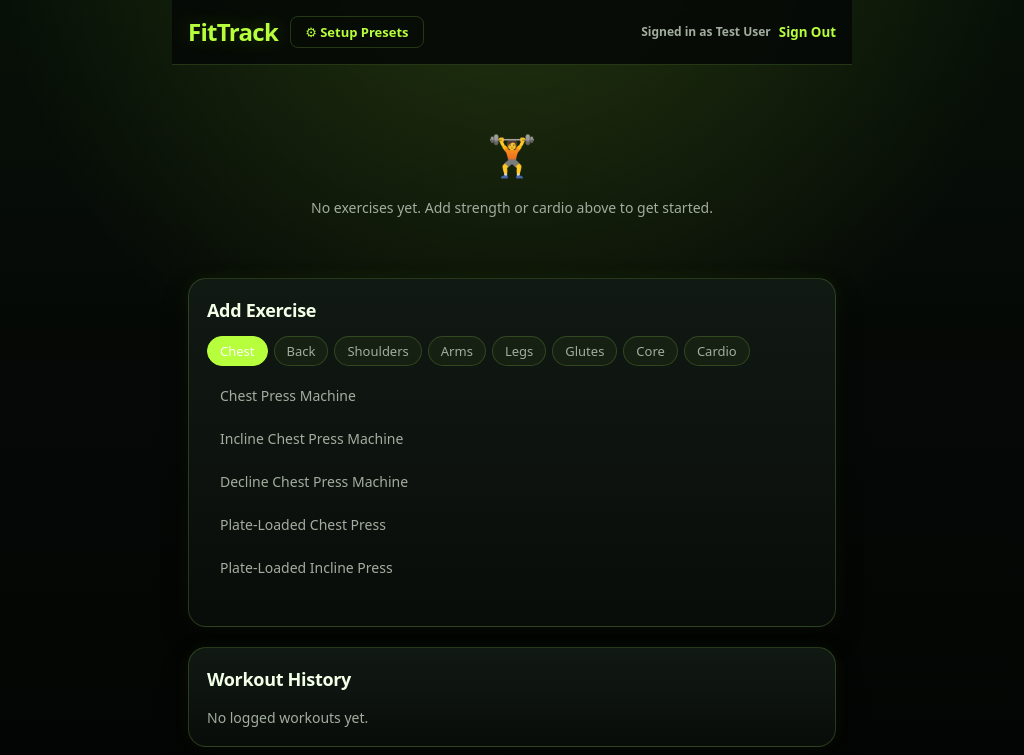
Scenario: App page navigation › lets the user open preset setup and return to the workout page
The image size is (1024, 755).
Click the button "⚙ Setup Presets" at (357, 32), box top-left (290, 16), bottom-right (424, 48)
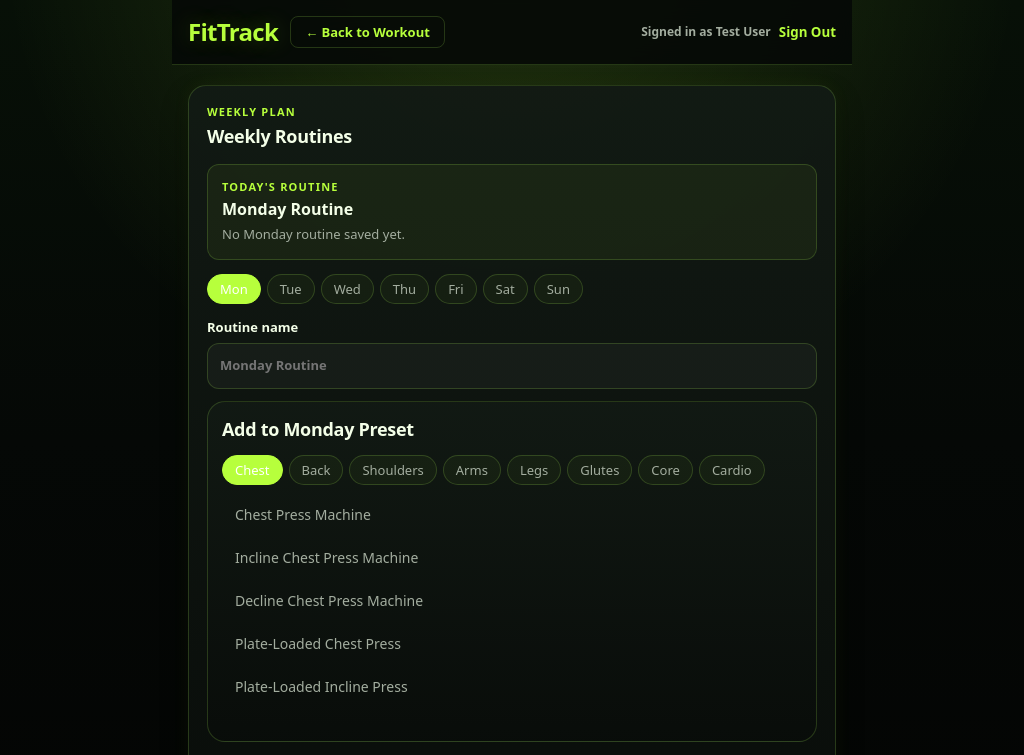
Now the heading "Weekly Routines" is shown, box top-left (207, 122), bottom-right (352, 150)
Now the button "← Back to Workout" is shown
Now the heading "Add Exercise" is gone
Click the button "← Back to Workout" at (367, 32), box top-left (290, 16), bottom-right (445, 48)
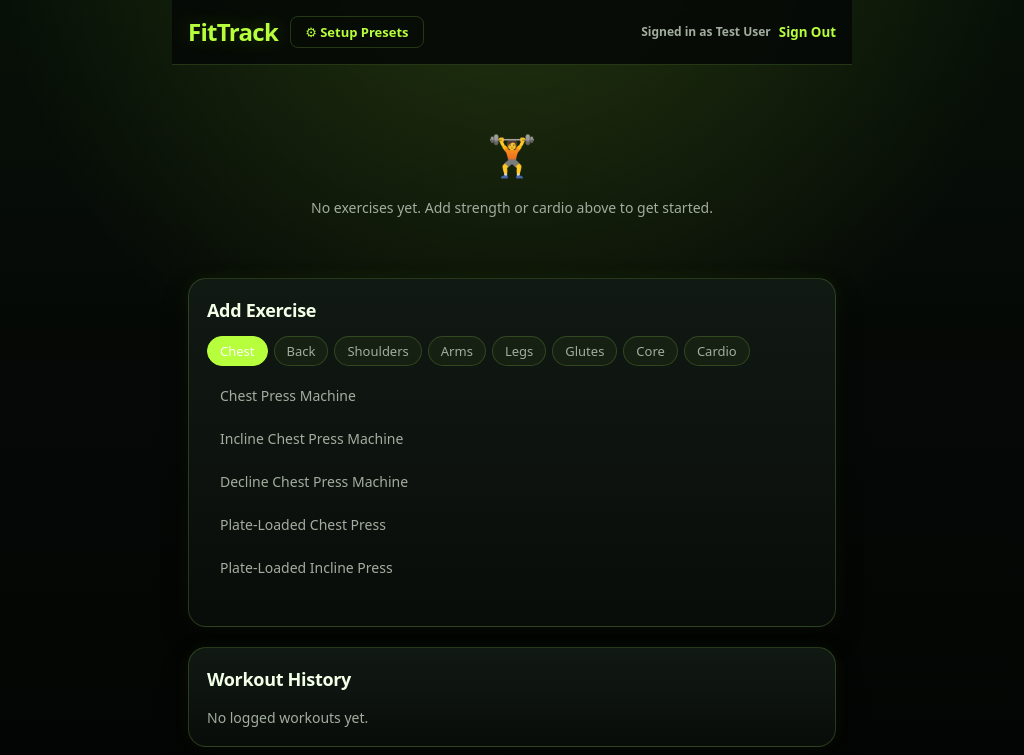
Now the heading "Add Exercise" is shown, box top-left (207, 298), bottom-right (316, 322)
Now the heading "Weekly Routines" is gone
